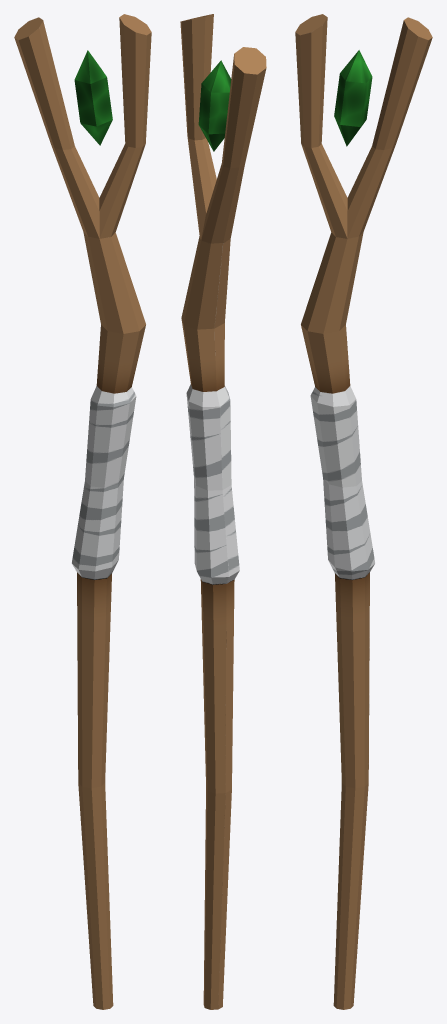
The model's file is Player_Staff.glb.
3 views of the same model, side by side, from view 1: azimuth 90°, elevation 25°; view 2: azimuth 210°, elevation 25°; view 3: azimuth 270°, elevation 25° (orthographic).
Visible parts, largest first — view 1: Icosphere; view 2: Icosphere; view 3: Icosphere.
Part boxes in pixels (box(x1,y1,x2,y2)): Icosphere: box(14, 14, 151, 1009); Icosphere: box(180, 14, 266, 1009); Icosphere: box(295, 14, 432, 1009).
Size of the model in its own units: 0.353 by 8.18 by 1.03.
1 material, 1 textured.
